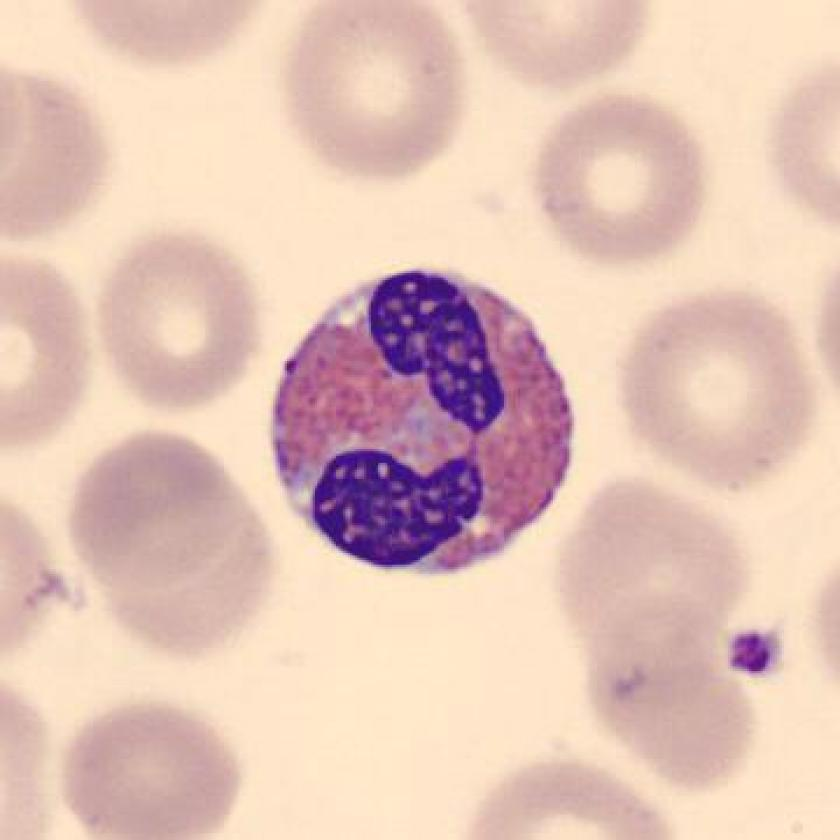eosinophil: (258, 258, 594, 593)
